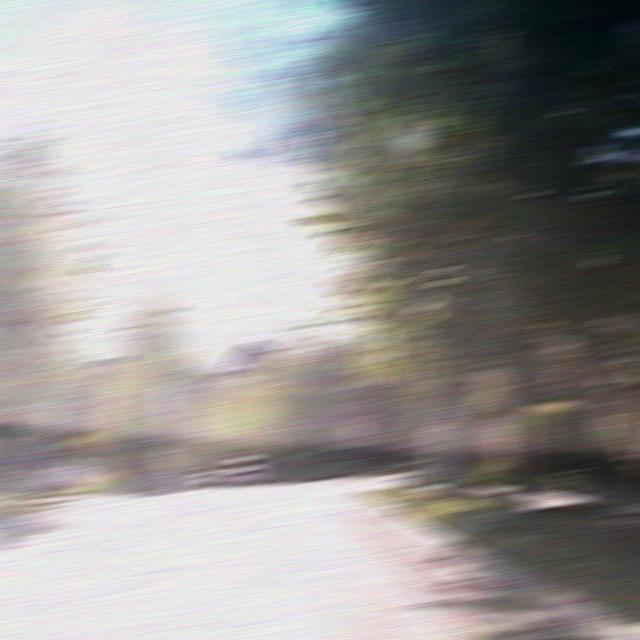stop_sign: (347, 391, 376, 417)
